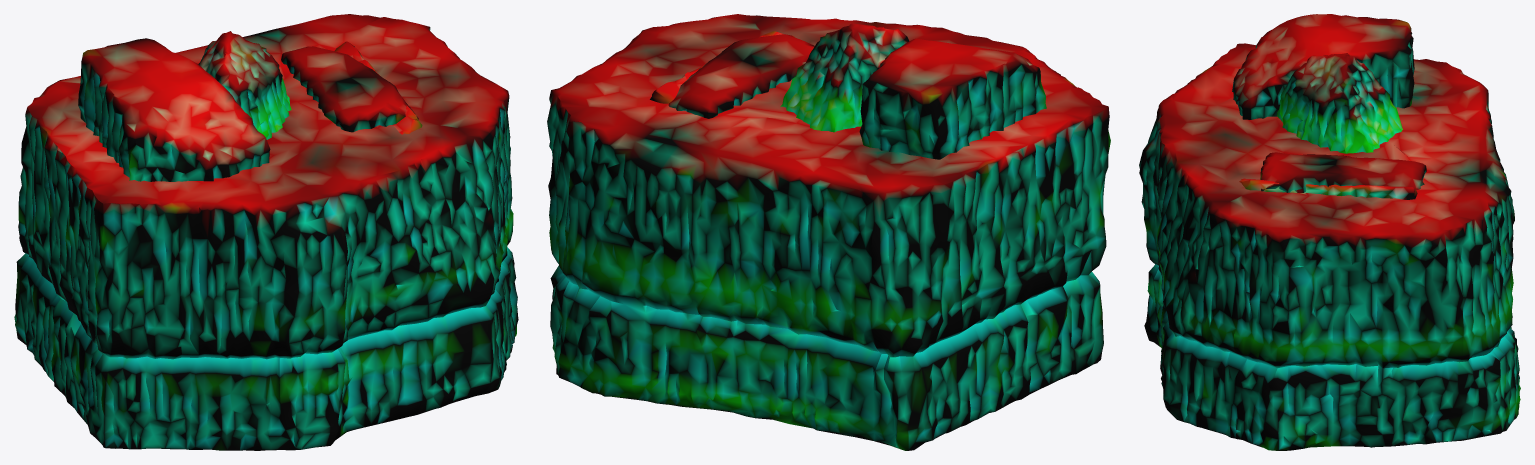
File: icebergs.glb
The picture shows the model from 3 angles, left to right: view 1: azimuth 30°, elevation 25°; view 2: azimuth 150°, elevation 25°; view 3: azimuth 270°, elevation 25°; orthographic projection. The views are drawn at different scales.
Parts seen in each view (by area): view 1: ICE_berg_tabular, ICE_berg_drydock, ICE_berg_pinnacle, ICE_berg_wedge; view 2: ICE_berg_tabular, ICE_berg_drydock, ICE_berg_pinnacle, ICE_berg_wedge; view 3: ICE_berg_tabular, ICE_berg_drydock, ICE_berg_pinnacle, ICE_berg_wedge.
Boxes of the visible parts, x1,y1,x2,y2 form: ICE_berg_tabular: (14,14,518,450); ICE_berg_drydock: (78,38,418,181); ICE_berg_pinnacle: (198,31,291,139); ICE_berg_wedge: (334,41,422,134); ICE_berg_tabular: (547,14,1110,450); ICE_berg_drydock: (668,34,1046,159); ICE_berg_pinnacle: (780,23,909,132); ICE_berg_wedge: (650,31,794,103); ICE_berg_tabular: (1139,43,1520,450); ICE_berg_drydock: (1232,14,1426,192); ICE_berg_pinnacle: (1277,53,1402,153); ICE_berg_wedge: (1239,178,1417,199).
Size of what is drawn, in the model's own units: 57.49 by 41.43 by 48.83.
